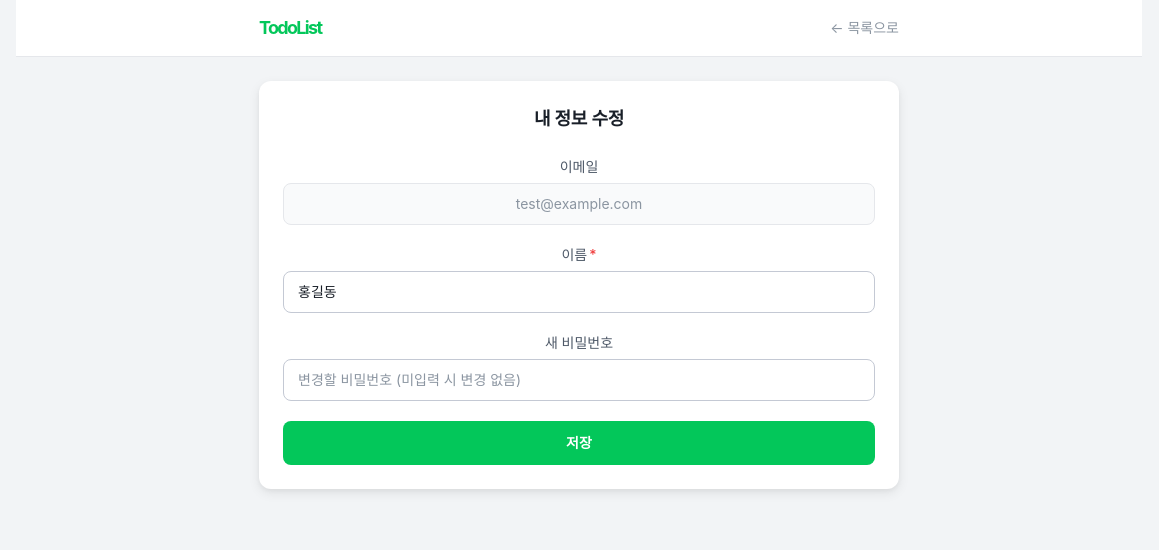
ProfilePage › 저장 성공 시 성공 메시지를 표시한다
This screenshot has width=1159, height=550.
Expected: the field showing "홍길동" is shown, x1=283 y1=271 x2=875 y2=313
Click the button "저장" at (579, 443), box x1=283 y1=421 x2=875 y2=465
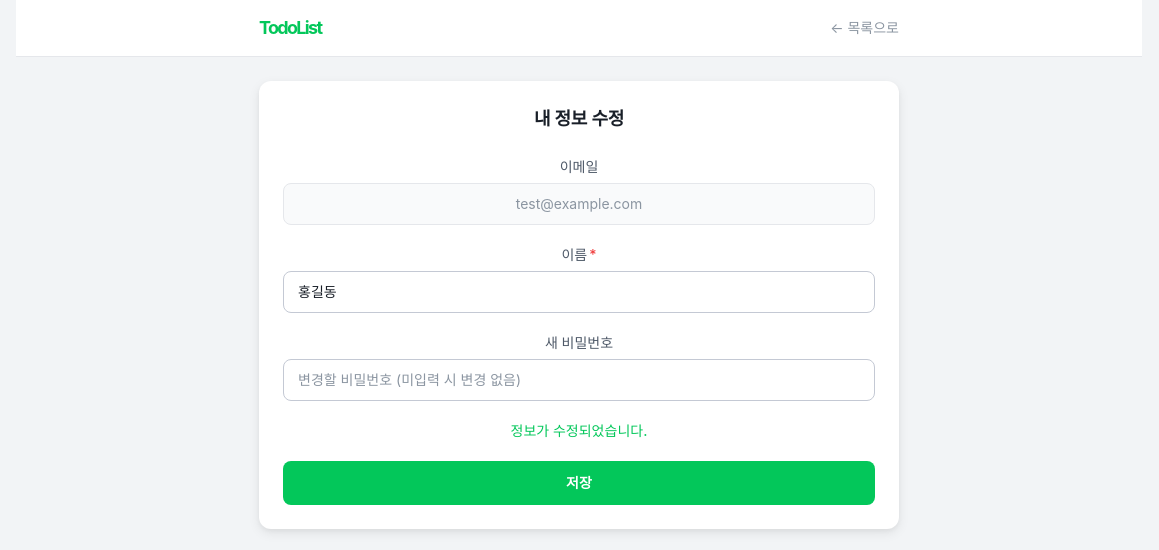
Result: the text "정보가 수정되었습니다." is shown at x1=511 y1=422 x2=647 y2=439
